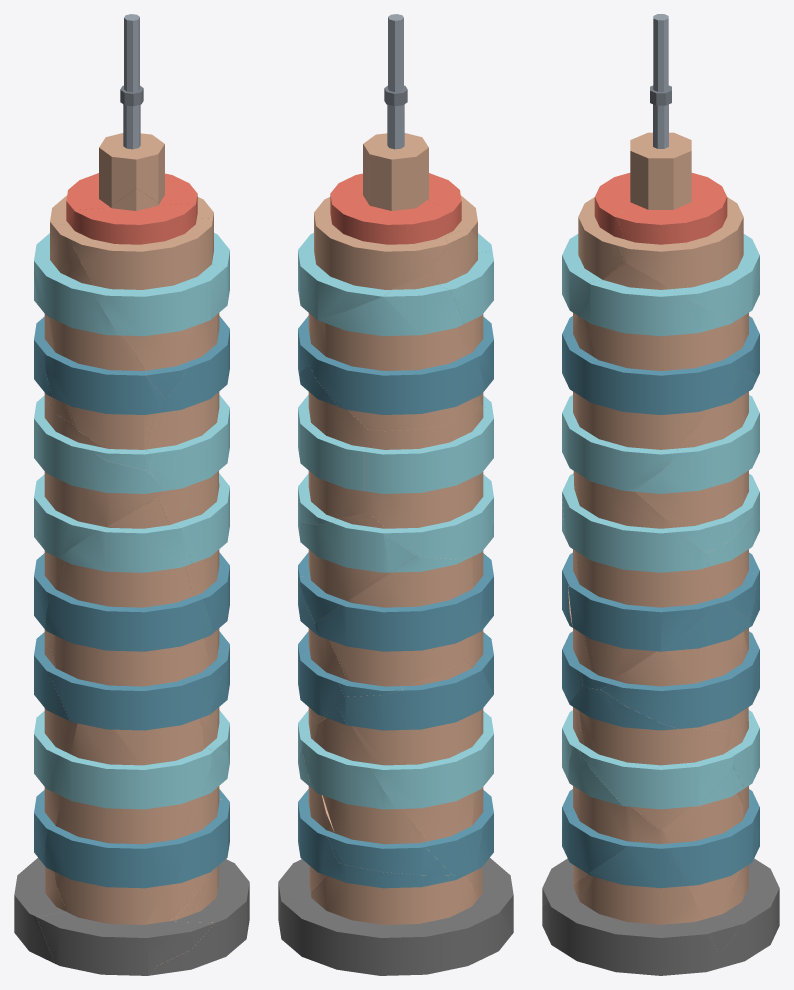
Rendered from BigHouse 3.2 Fractured.fbx.
The picture shows the model from 3 angles, left to right: view 1: azimuth 30°, elevation 25°; view 2: azimuth 150°, elevation 25°; view 3: azimuth 270°, elevation 25°; orthographic projection.
Visible parts, largest first — view 1: BigHouse_Type3_2_Breaking_cell.019, BigHouse_Type3_2_Breaking_cell.008, BigHouse_Type3_2_Breaking_cell.010, BigHouse_Type3_2_Breaking_cell.016, BigHouse_Type3_2_Breaking_cell.014, BigHouse_Type3_2_Breaking_cell, BigHouse_Type3_2_Breaking_cell.003, BigHouse_Type3_2_Breaking_cell.004, BigHouse_Type3_2_Breaking_cell.017, BigHouse_Type3_2_Breaking_cell.013, BigHouse_Type3_2_Breaking_cell.006, BigHouse_Type3_2_Breaking_cell.002 (+3 smaller); view 2: BigHouse_Type3_2_Breaking_cell.003, BigHouse_Type3_2_Breaking_cell.002, BigHouse_Type3_2_Breaking_cell.007, BigHouse_Type3_2_Breaking_cell.006, BigHouse_Type3_2_Breaking_cell.005, BigHouse_Type3_2_Breaking_cell.014, BigHouse_Type3_2_Breaking_cell.001, BigHouse_Type3_2_Breaking_cell.009, BigHouse_Type3_2_Breaking_cell.018, BigHouse_Type3_2_Breaking_cell.016, BigHouse_Type3_2_Breaking_cell.019, BigHouse_Type3_2_Breaking_cell.011 (+6 smaller); view 3: BigHouse_Type3_2_Breaking_cell, BigHouse_Type3_2_Breaking_cell.004, BigHouse_Type3_2_Breaking_cell.003, BigHouse_Type3_2_Breaking_cell.013, BigHouse_Type3_2_Breaking_cell.012, BigHouse_Type3_2_Breaking_cell.011, BigHouse_Type3_2_Breaking_cell.009, BigHouse_Type3_2_Breaking_cell.015, BigHouse_Type3_2_Breaking_cell.017, BigHouse_Type3_2_Breaking_cell.010, BigHouse_Type3_2_Breaking_cell.002, BigHouse_Type3_2_Breaking_cell.018 (+5 smaller).
Boxes of the visible parts, x1,y1,x2,y2 form: BigHouse_Type3_2_Breaking_cell.019: (36,718,213,975); BigHouse_Type3_2_Breaking_cell.008: (44,498,220,730); BigHouse_Type3_2_Breaking_cell.010: (69,188,224,399); BigHouse_Type3_2_Breaking_cell.016: (34,223,165,470); BigHouse_Type3_2_Breaking_cell.014: (34,395,165,557); BigHouse_Type3_2_Breaking_cell: (145,228,229,490); BigHouse_Type3_2_Breaking_cell.003: (50,14,213,227); BigHouse_Type3_2_Breaking_cell.004: (158,471,229,677); BigHouse_Type3_2_Breaking_cell.017: (148,747,229,965); BigHouse_Type3_2_Breaking_cell.013: (150,789,249,975); BigHouse_Type3_2_Breaking_cell.006: (34,632,77,862); BigHouse_Type3_2_Breaking_cell.002: (14,849,66,963); BigHouse_Type3_2_Breaking_cell.003: (298,14,450,320); BigHouse_Type3_2_Breaking_cell.002: (279,862,510,975); BigHouse_Type3_2_Breaking_cell.007: (309,271,484,430); BigHouse_Type3_2_Breaking_cell.006: (338,659,493,875); BigHouse_Type3_2_Breaking_cell.005: (314,555,483,696); BigHouse_Type3_2_Breaking_cell.014: (365,405,493,559); BigHouse_Type3_2_Breaking_cell.001: (302,708,451,875); BigHouse_Type3_2_Breaking_cell.009: (298,365,368,524); BigHouse_Type3_2_Breaking_cell.018: (298,512,415,622); BigHouse_Type3_2_Breaking_cell.016: (432,229,493,409); BigHouse_Type3_2_Breaking_cell.019: (467,708,513,935); BigHouse_Type3_2_Breaking_cell.011: (298,574,346,723); BigHouse_Type3_2_Breaking_cell: (562,261,741,491); BigHouse_Type3_2_Breaking_cell.004: (562,471,717,689); BigHouse_Type3_2_Breaking_cell.003: (617,14,759,322); BigHouse_Type3_2_Breaking_cell.013: (542,828,718,975); BigHouse_Type3_2_Breaking_cell.012: (569,685,734,829); BigHouse_Type3_2_Breaking_cell.011: (601,601,759,730); BigHouse_Type3_2_Breaking_cell.009: (634,369,759,553); BigHouse_Type3_2_Breaking_cell.015: (663,767,757,954); BigHouse_Type3_2_Breaking_cell.017: (542,746,655,905); BigHouse_Type3_2_Breaking_cell.010: (562,173,631,342); BigHouse_Type3_2_Breaking_cell.002: (716,829,779,969); BigHouse_Type3_2_Breaking_cell.018: (705,475,759,618).
Size of the model in its own units: 570 by 2410 by 570.
